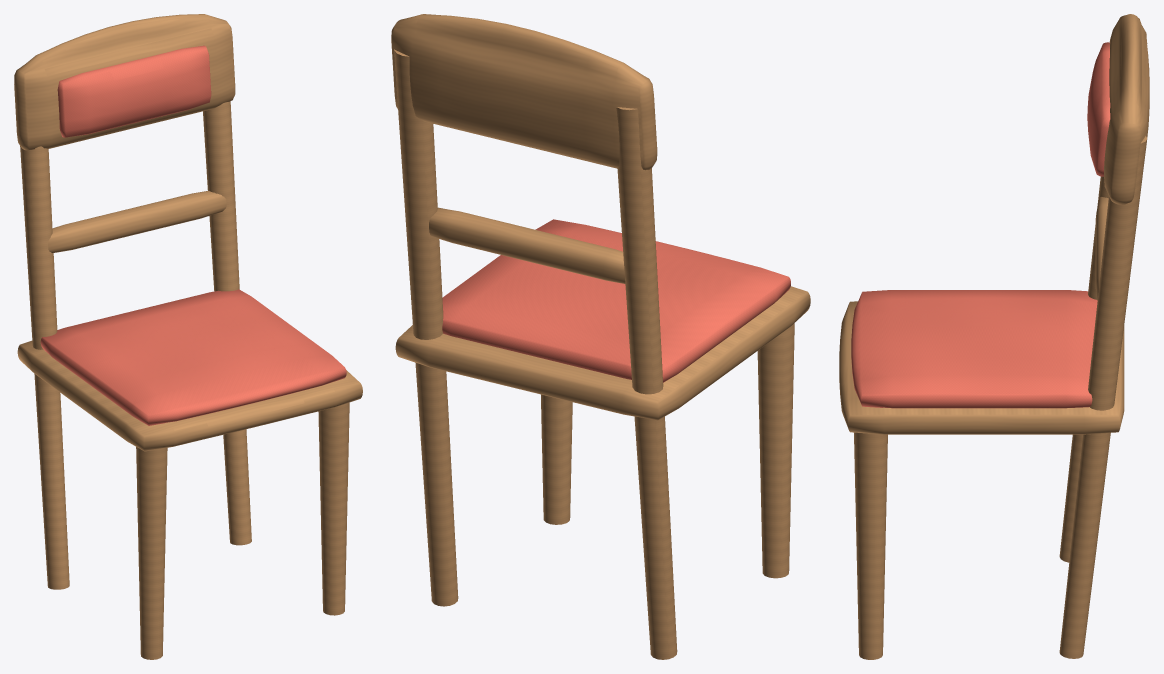
The model's file is 卡通餐椅_珊瑚.glb.
3 renders of one model, left to right at view 1: azimuth 30°, elevation 25°; view 2: azimuth 150°, elevation 25°; view 3: azimuth 270°, elevation 25°, orthographic. The views are drawn at different scales.
Parts seen in each view (by area): view 1: DiningChair_珊瑚_Wood, DiningChair_珊瑚_Cushion; view 2: DiningChair_珊瑚_Wood, DiningChair_珊瑚_Cushion; view 3: DiningChair_珊瑚_Wood, DiningChair_珊瑚_Cushion.
Boxes of the visible parts, x1=… form: DiningChair_珊瑚_Wood: x1=14, y1=14, x2=362, y2=659; DiningChair_珊瑚_Cushion: x1=40, y1=45, x2=346, y2=425; DiningChair_珊瑚_Wood: x1=391, y1=14, x2=810, y2=659; DiningChair_珊瑚_Cushion: x1=442, y1=219, x2=790, y2=382; DiningChair_珊瑚_Wood: x1=839, y1=14, x2=1149, y2=659; DiningChair_珊瑚_Cushion: x1=851, y1=42, x2=1110, y2=408.
Size of what is drawn, in the model's own units: 0.42 by 0.9269 by 0.4659.
Materials: 2 (2 with a texture image).
